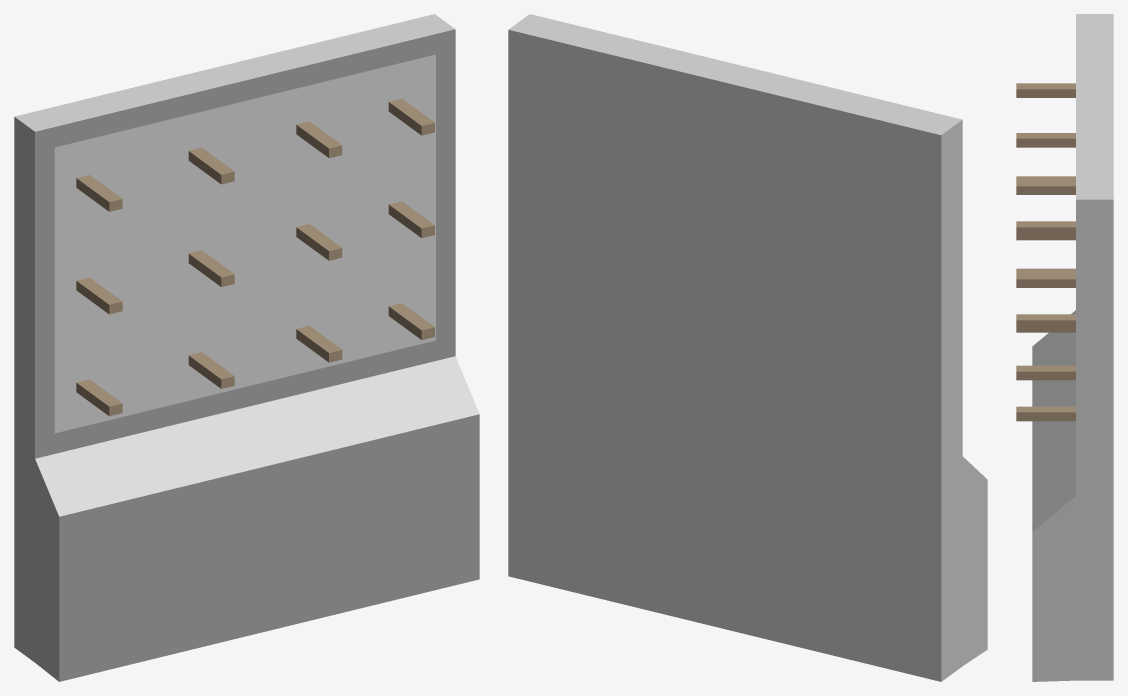
Rendered from Estante Ganchos.fbx.
3 renders of one model, left to right at view 1: azimuth 30°, elevation 25°; view 2: azimuth 150°, elevation 25°; view 3: azimuth 270°, elevation 25°, orthographic. The views are drawn at different scales.
Parts seen in each view (by area): view 1: Palito_2, Palito_12, Palito_5, Palito_13, Palito_1, Palito_3, Palito_7, Palito_8, Palito_9, Palito_11, Palito_4, Palito_10 (+1 smaller); view 2: Palito_2; view 3: Palito_2, Palito_1, Palito_7, Palito_3, Palito_4, Palito_5, Palito_6, Palito_8, Palito_11, Palito_13, Palito_9, Palito_12 (+1 smaller).
Part boxes in pixels (left/top/right/bottom): Palito_2: left=14, top=14, right=479, bottom=681; Palito_12: left=76, top=277, right=122, bottom=314; Palito_5: left=296, top=121, right=342, bottom=158; Palito_13: left=76, top=379, right=122, bottom=416; Palito_1: left=388, top=303, right=434, bottom=339; Palito_3: left=388, top=201, right=434, bottom=237; Palito_7: left=296, top=326, right=342, bottom=362; Palito_8: left=188, top=147, right=234, bottom=184; Palito_9: left=188, top=250, right=234, bottom=286; Palito_11: left=76, top=175, right=122, bottom=211; Palito_4: left=388, top=99, right=434, bottom=135; Palito_10: left=188, top=352, right=234, bottom=388; Palito_2: left=508, top=14, right=987, bottom=681; Palito_2: left=1032, top=14, right=1113, bottom=681; Palito_1: left=1016, top=406, right=1075, bottom=421; Palito_7: left=1016, top=365, right=1075, bottom=380; Palito_3: left=1016, top=314, right=1075, bottom=328; Palito_4: left=1016, top=221, right=1075, bottom=235; Palito_5: left=1016, top=180, right=1075, bottom=194; Palito_6: left=1016, top=273, right=1075, bottom=287; Palito_8: left=1016, top=133, right=1075, bottom=147; Palito_11: left=1016, top=83, right=1075, bottom=97; Palito_13: left=1016, top=268, right=1075, bottom=273; Palito_9: left=1016, top=236, right=1075, bottom=240; Palito_12: left=1016, top=176, right=1075, bottom=180.
Bounding box in the file's own units: 2.95 × 3.57 × 0.6524.
